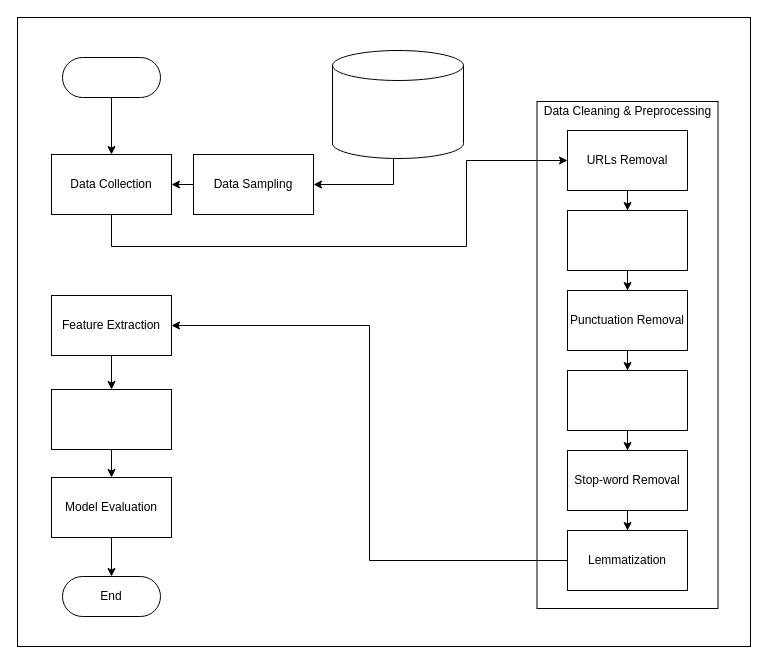
Some shapes in this 768 by 664 pixel diagram are drawn without their labels. Each missing label, with the box of its shape:
Case Folding: (566, 210, 688, 270)
Kaggle : Ruangguru Clash of Champions 2024 Youtube Comments: (332, 50, 464, 158)
Sentiment Classification: (50, 388, 172, 450)
Start: (62, 56, 160, 98)
Tokenization: (566, 370, 688, 430)
